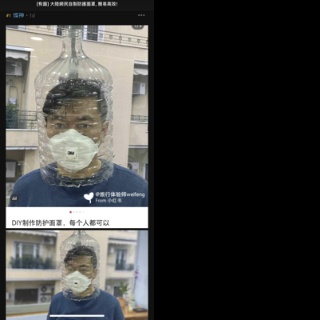with_mask: (47, 115, 100, 170), (65, 264, 94, 292)
